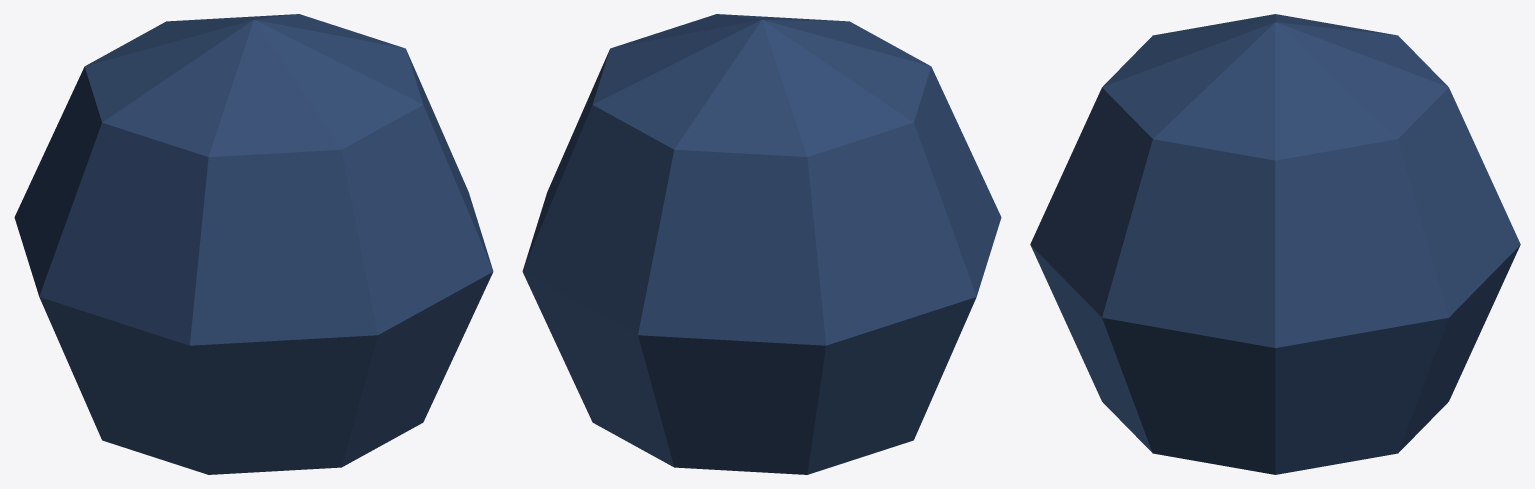
File: marble.glb
3 views of the same model, side by side, from view 1: azimuth 30°, elevation 25°; view 2: azimuth 150°, elevation 25°; view 3: azimuth 270°, elevation 25° (orthographic).
Parts seen in each view (by area): view 1: Body_mesh; view 2: Body_mesh; view 3: Body_mesh.
Part boxes in pixels (x1,y1,x2,y2): Body_mesh: (14, 14, 493, 474); Body_mesh: (522, 14, 1001, 474); Body_mesh: (1030, 14, 1520, 474).
Bounding box in the file's own units: 0.07 × 0.07 × 0.07.
